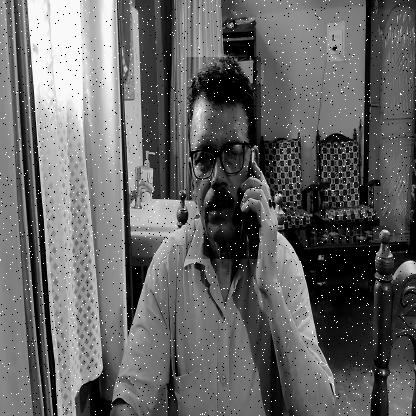Normal: (186, 57, 261, 259)
